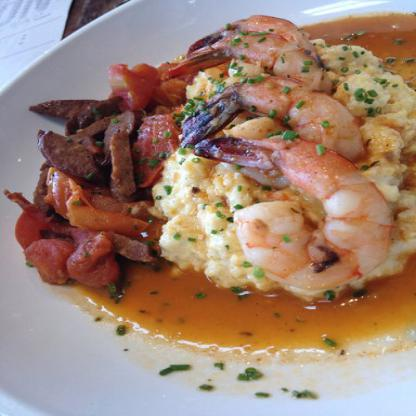shrimp: (198, 130, 395, 300)
